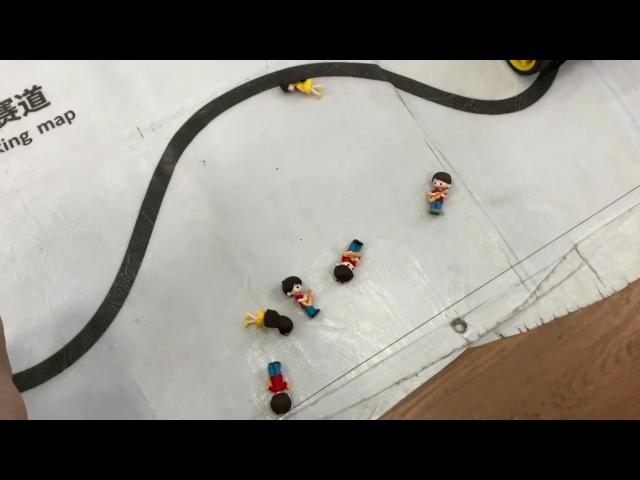man: (280, 273, 322, 321), (330, 238, 370, 286), (262, 358, 294, 416), (424, 170, 454, 218)
woman: (242, 306, 296, 338), (280, 74, 324, 100)
